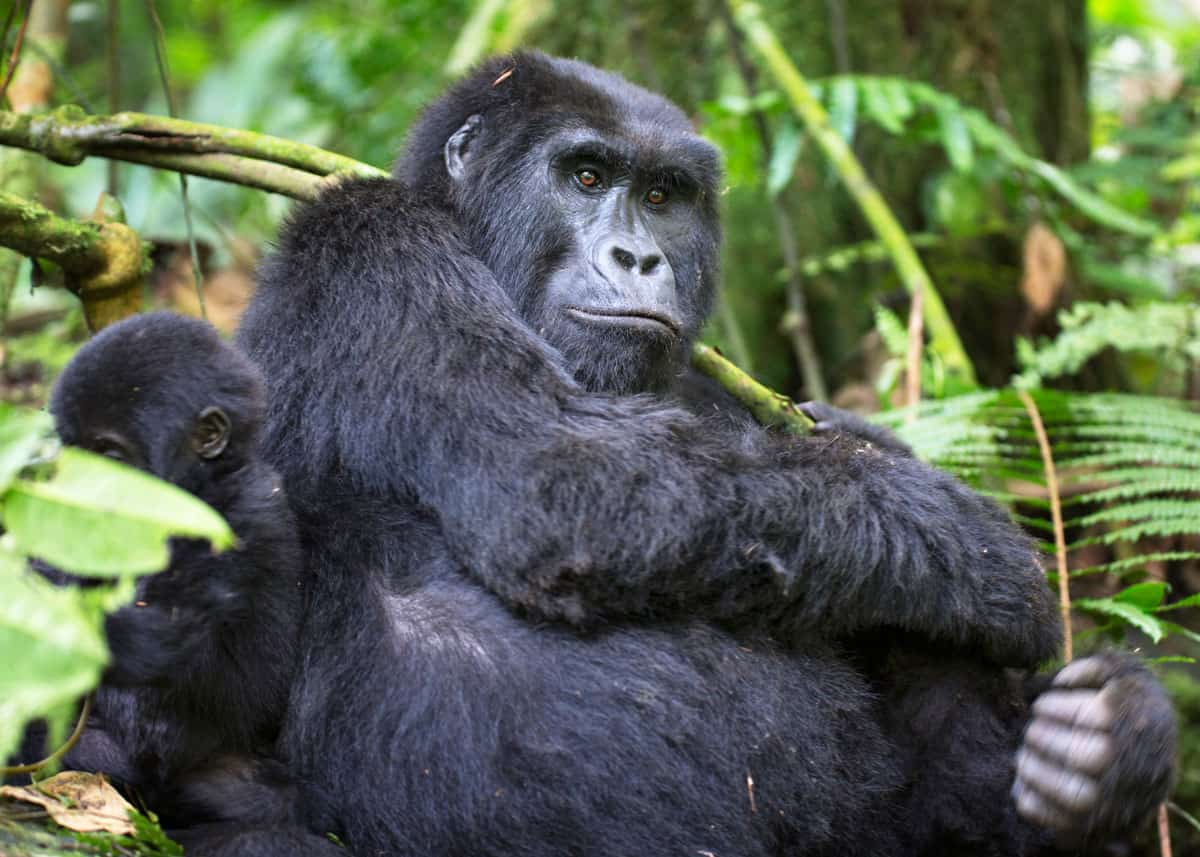Goriila: (298, 53, 1089, 798), (41, 327, 321, 820)
